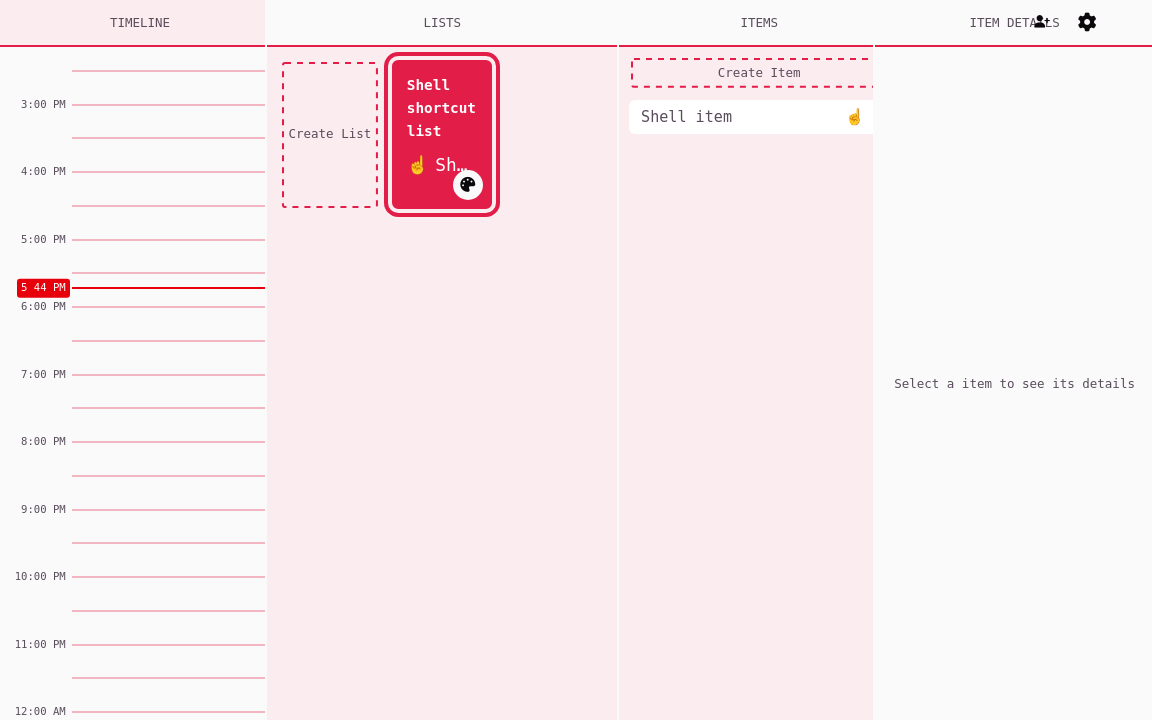
it: PlannerShell contextual shortcuts › opens Options as a labelled disclosure panel
(page scrolled)
Click the button named "Options". click: (1087, 22)
box: [1064, 0, 1110, 45]
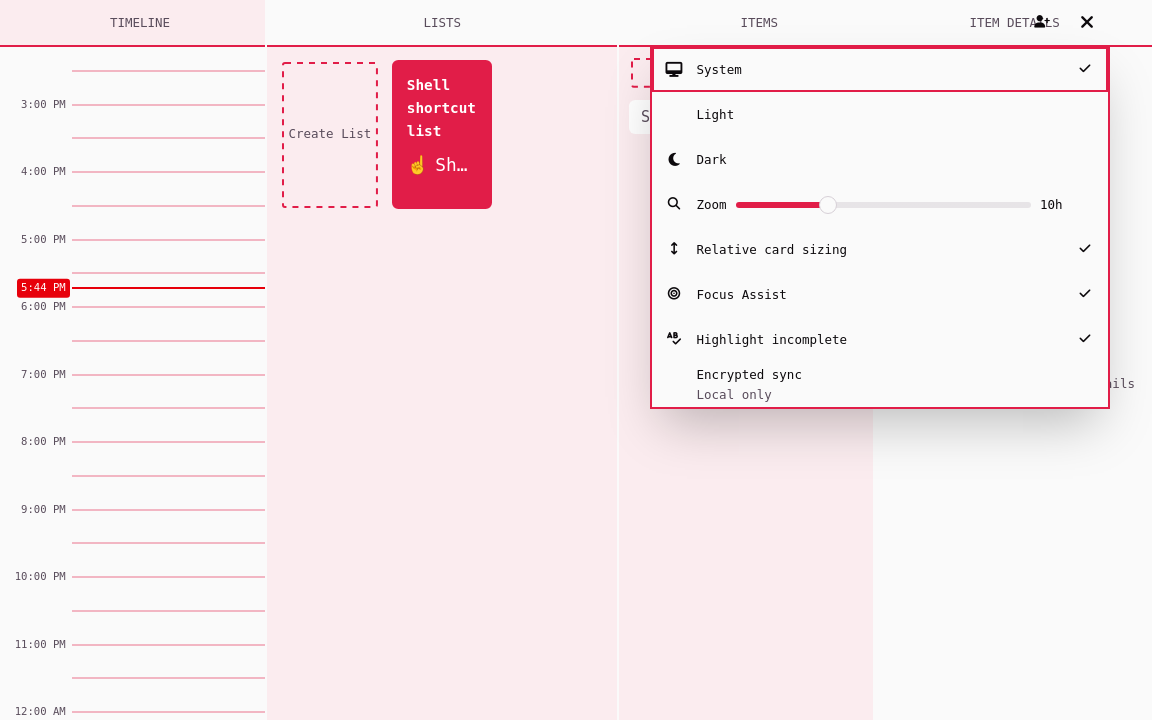
Now the button named "Options" is expanded, box [1064, 0, 1110, 45]
Now the dialog named "Options" is shown, box [650, 45, 1110, 409]
